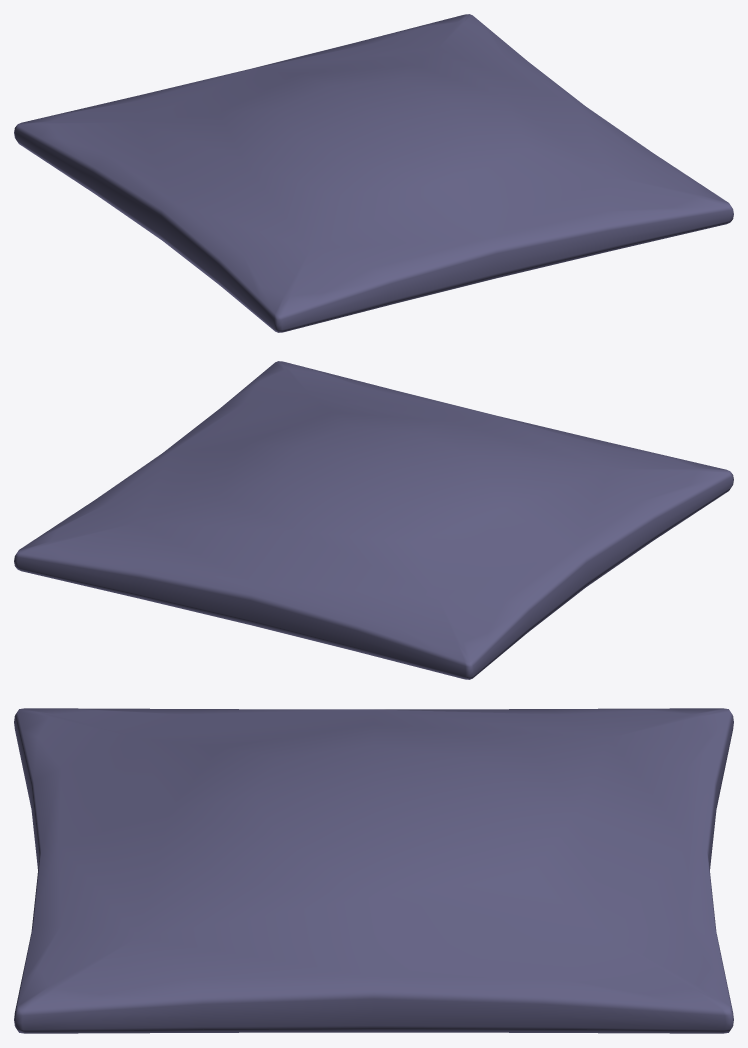
Rendered from coussin_carree_01.fbx.
3 renders of one model, top to bottom at view 1: azimuth 30°, elevation 25°; view 2: azimuth 150°, elevation 25°; view 3: azimuth 270°, elevation 25°, orthographic. The views are drawn at different scales.
Parts seen in each view (by area): view 1: pasted__pasted__pCube13; view 2: pasted__pasted__pCube13; view 3: pasted__pasted__pCube13.
Boxes of the visible parts, left/top/right/bottom form: pasted__pasted__pCube13: left=14, top=14, right=733, bottom=332; pasted__pasted__pCube13: left=14, top=361, right=733, bottom=679; pasted__pasted__pCube13: left=14, top=708, right=733, bottom=1033.
Size of the model in its own units: 2.76 by 0.6716 by 2.76.
